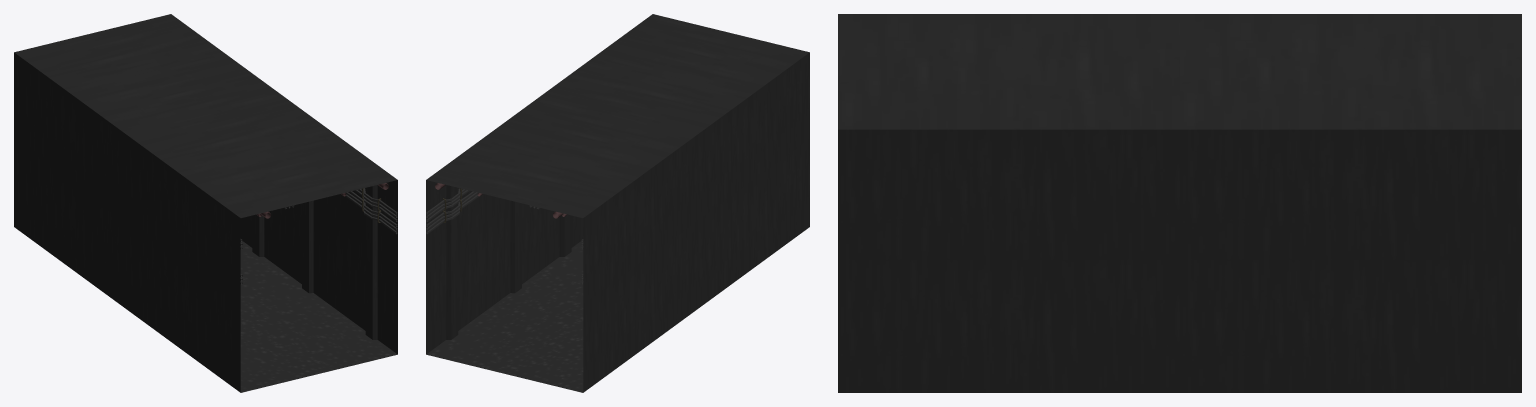
Rendered from SW_ENV_RailTunnel_B_01_Single_10m_FF.fbx.
3 renders of one model, left to right at view 1: azimuth 30°, elevation 25°; view 2: azimuth 150°, elevation 25°; view 3: azimuth 270°, elevation 25°, orthographic. The views are drawn at different scales.
Visible parts, largest first — view 1: SW_ENV_RailTunnel_B_01_Single_10m_FF; view 2: SW_ENV_RailTunnel_B_01_Single_10m_FF; view 3: SW_ENV_RailTunnel_B_01_Single_10m_FF.
Part boxes in pixels (x1,y1,x2,y2): SW_ENV_RailTunnel_B_01_Single_10m_FF: (14, 14, 397, 392); SW_ENV_RailTunnel_B_01_Single_10m_FF: (426, 14, 809, 392); SW_ENV_RailTunnel_B_01_Single_10m_FF: (838, 14, 1521, 392).
Bounding box in the file's own units: 4 × 4.25 × 10.
